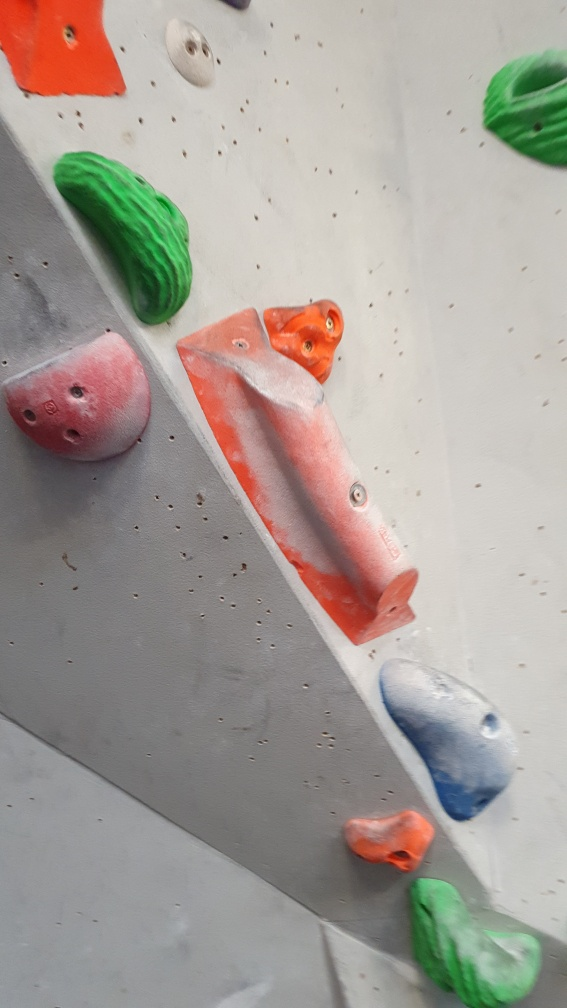Jug: (53, 144, 198, 325), (411, 876, 545, 1008)
Pinch: (177, 306, 419, 649), (377, 657, 520, 830), (8, 1, 133, 107)
Pocket: (475, 36, 567, 174)
Sloper: (3, 329, 154, 466)
